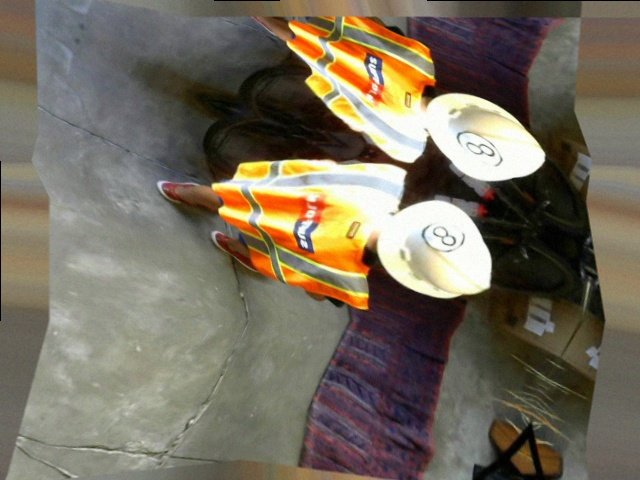eight: (415, 210, 470, 260)
